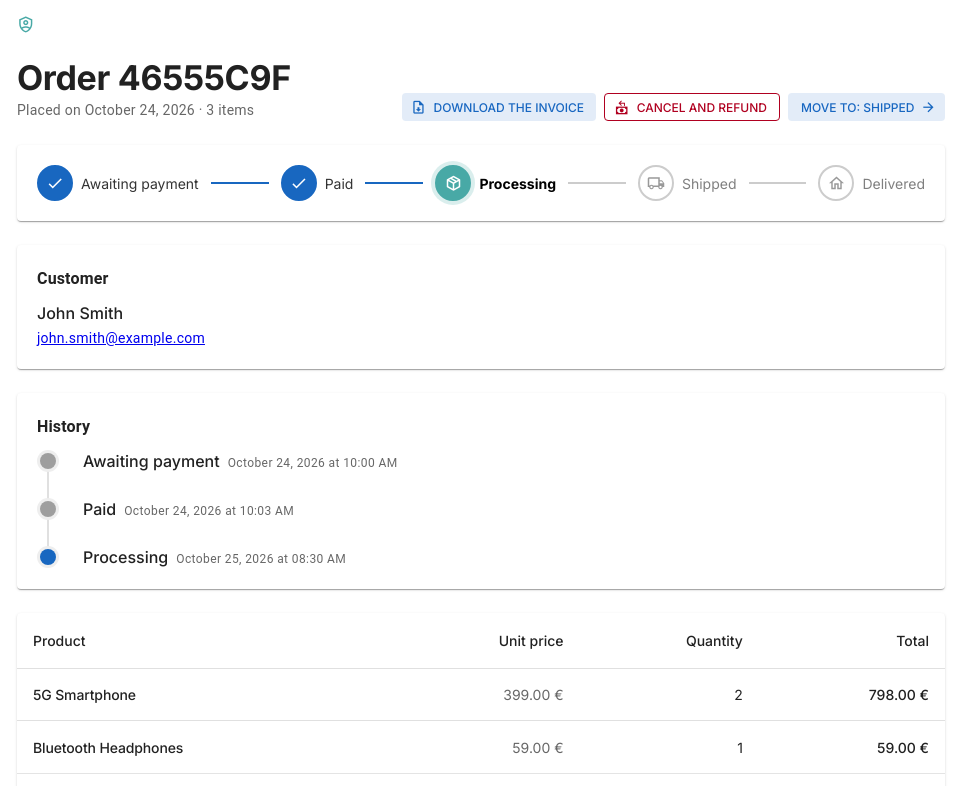
AdminOrderDetail.vue › moves the order to its next status
Click the button "Move to: Shipped" at (866, 107), box [788,93,945,121]
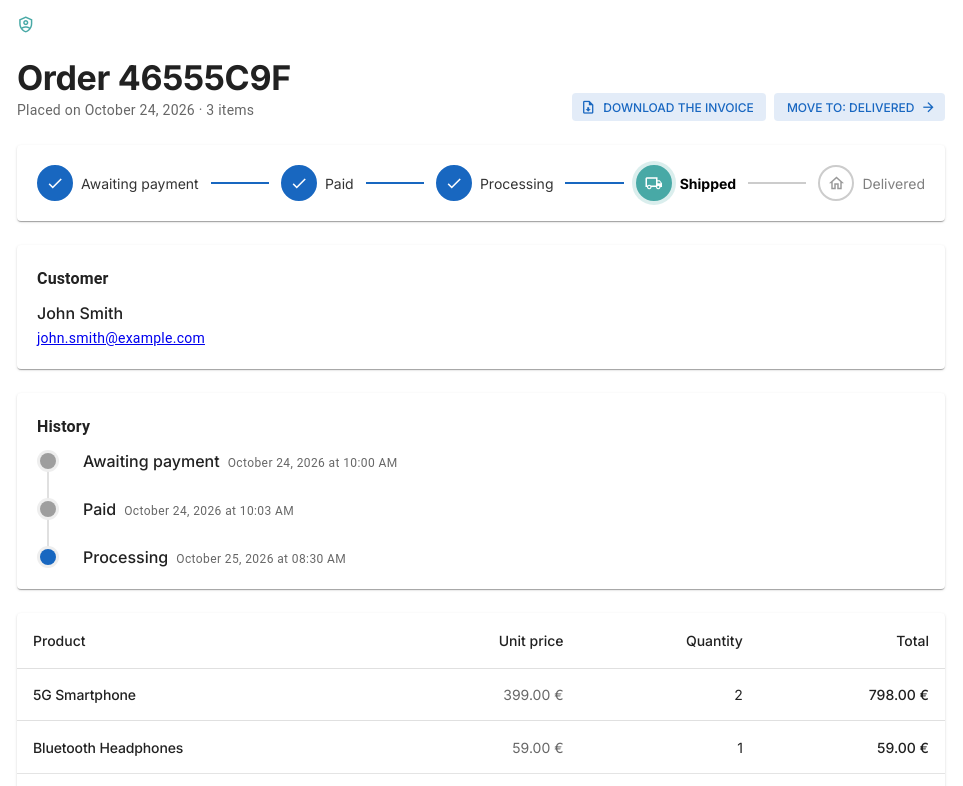
Now the text "Move to: Delivered" is shown, box [786,100,914,115]
